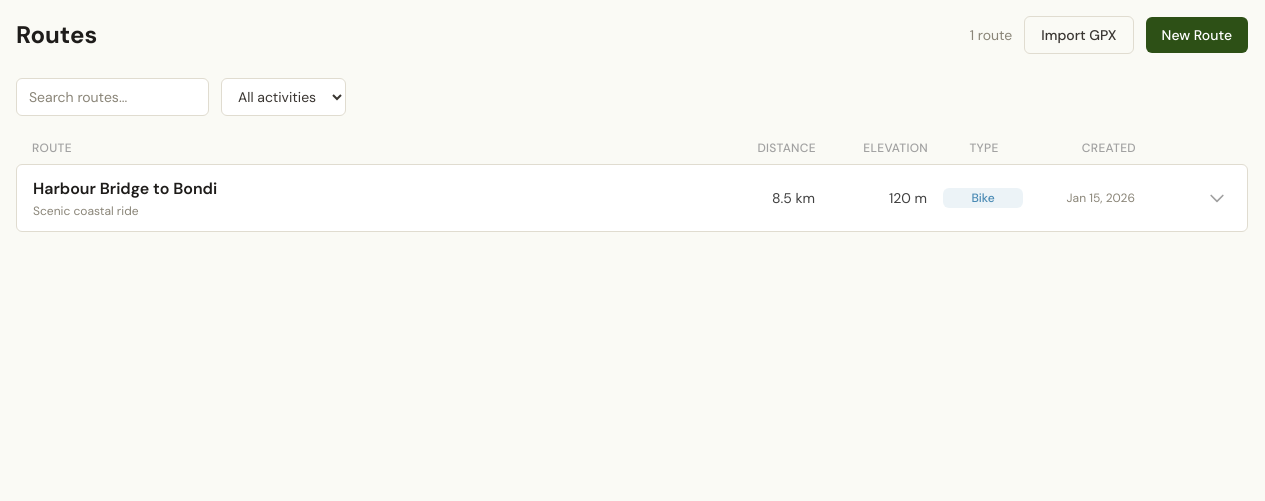
RoutesPage › expands row detail on chevron click
Expected: the link "Harbour Bridge to Bondi" is shown, left=33, top=178, right=217, bottom=199
Click the button named "Expand details". click: click(1217, 198)
box: left=1203, top=184, right=1231, bottom=212
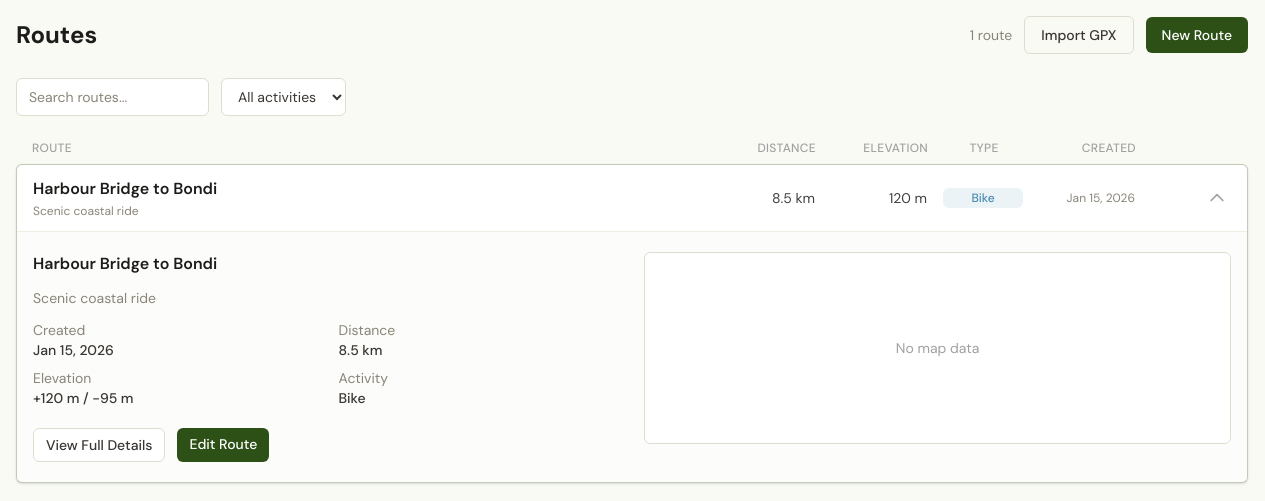
Now the link "View Full Details" is shown, box left=33, top=428, right=166, bottom=462
Now the link "Edit Route" is shown, box left=178, top=428, right=269, bottom=462
